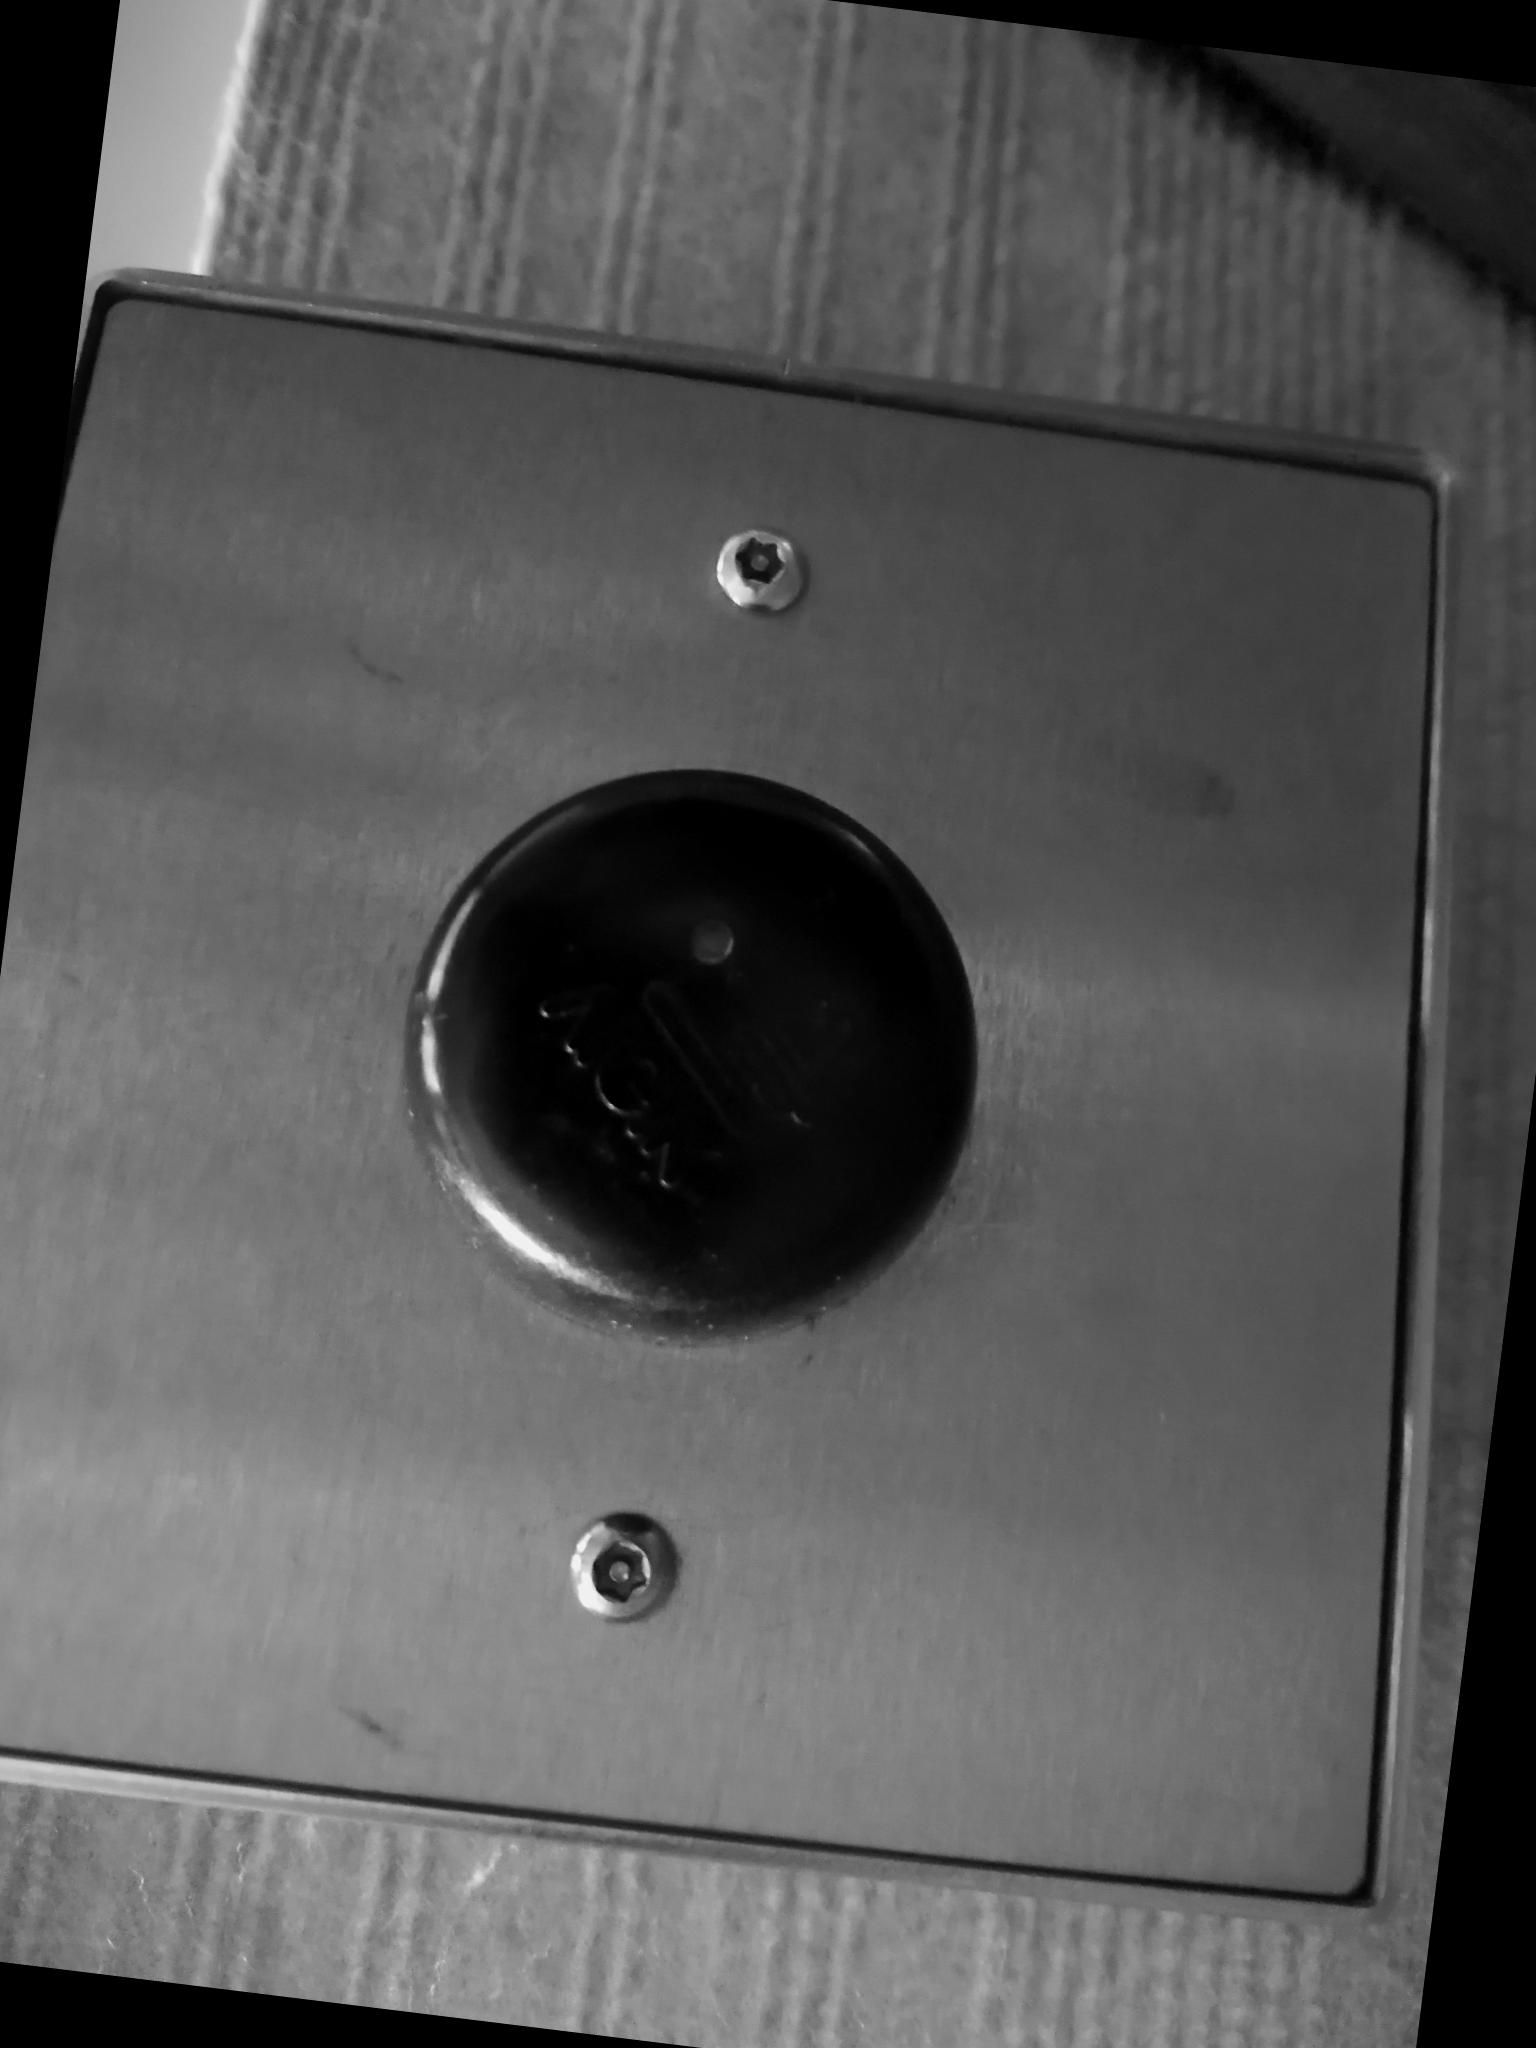screw: (552, 1500, 687, 1630), (702, 508, 818, 619)
